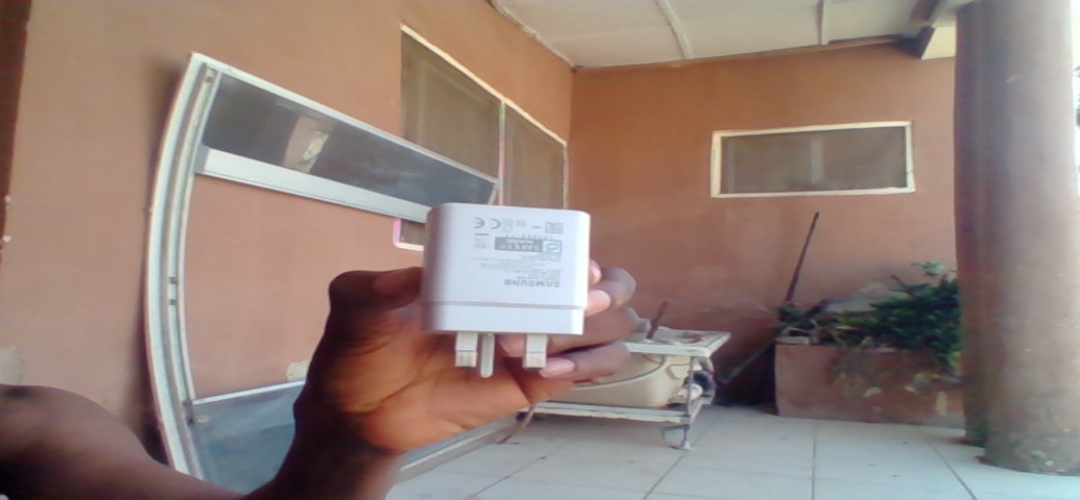phone_charger: (422, 203, 593, 378)
